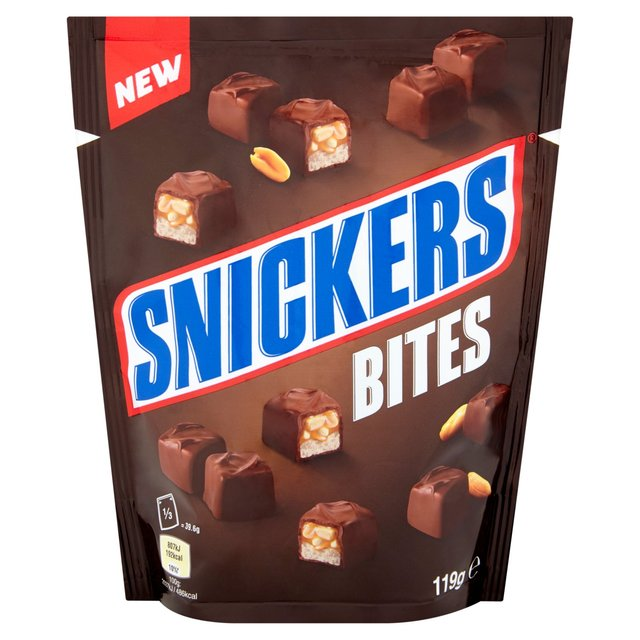snickers: (126, 151, 510, 400), (126, 152, 507, 400)
